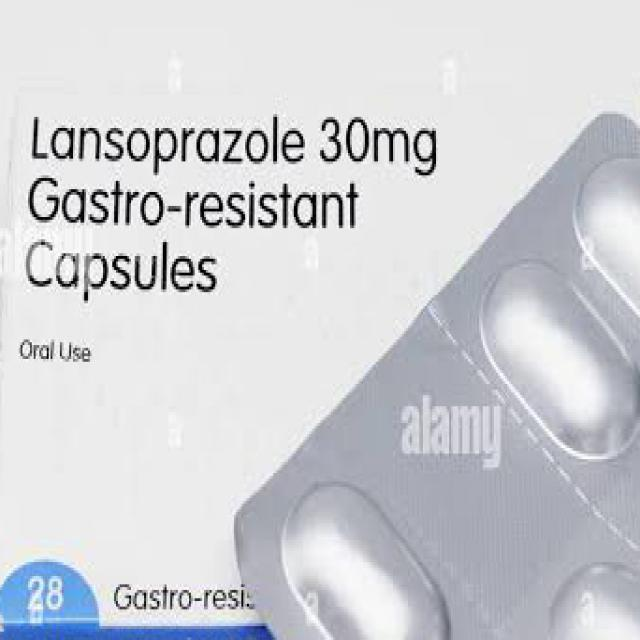drug-name: (20, 113, 442, 237)
